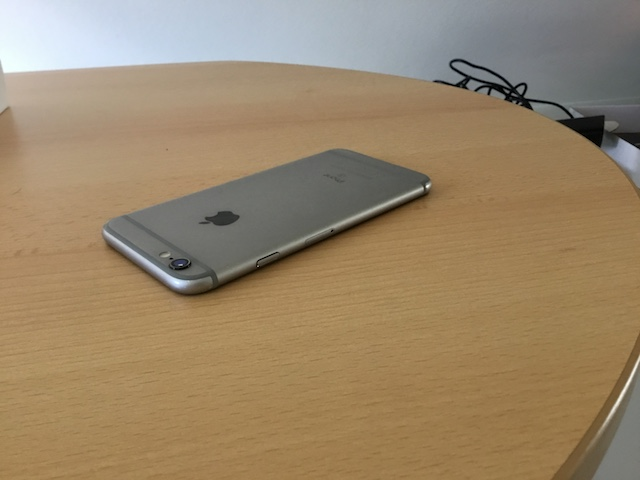phone: (96, 141, 438, 301)
